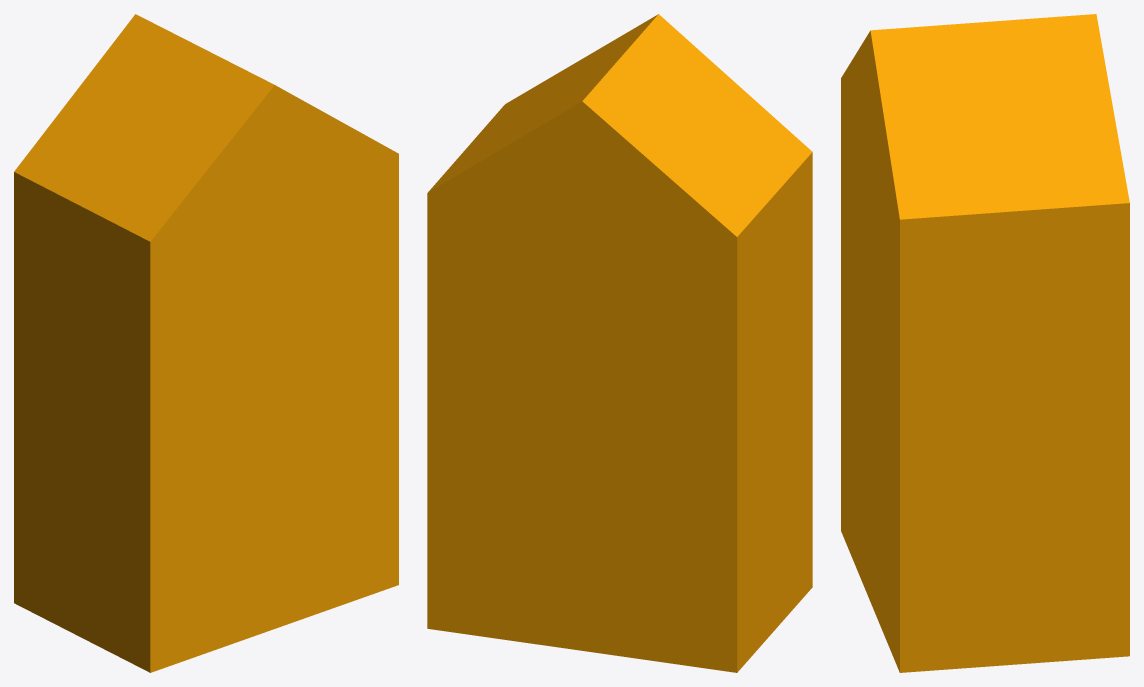
The model's file is DEHB01ALn0001My1.gltf.
The picture shows the model from 3 angles, left to right: view 1: azimuth 30°, elevation 25°; view 2: azimuth 150°, elevation 25°; view 3: azimuth 270°, elevation 25°; orthographic projection. The views are drawn at different scales.
Parts seen in each view (by area): view 1: Z_UP; view 2: Z_UP; view 3: Z_UP.
Part boxes in pixels (<box>): Z_UP: <box>14,14,398,672</box>; Z_UP: <box>427,14,812,672</box>; Z_UP: <box>841,14,1129,672</box>.
Size of the model in its own units: 9.87 by 16.7 by 7.64.
